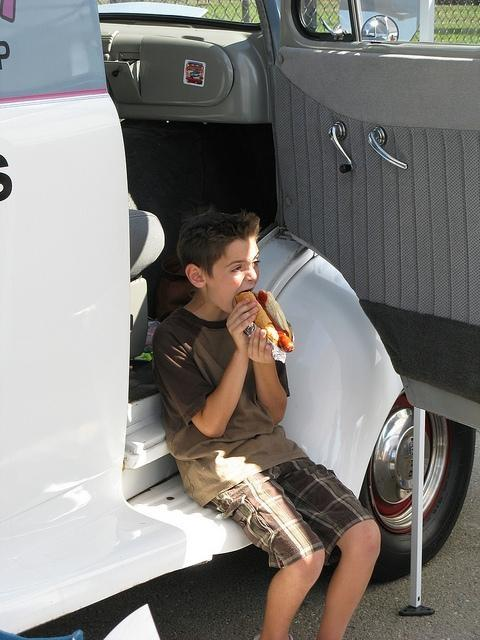truck: (0, 0, 480, 632)
